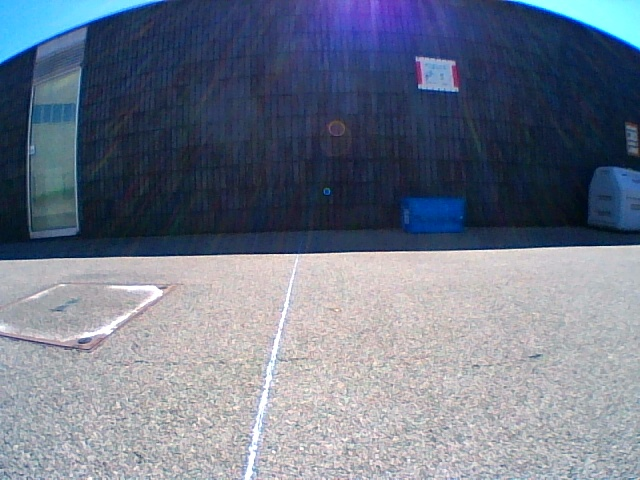blue_box: (401, 197, 462, 232)
tag: (404, 210, 408, 224)
